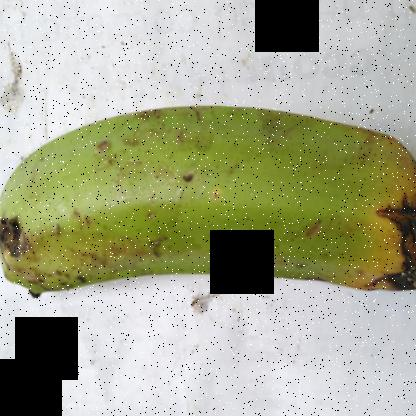rotten: (344, 82, 416, 338)
unripe: (5, 77, 381, 313)
